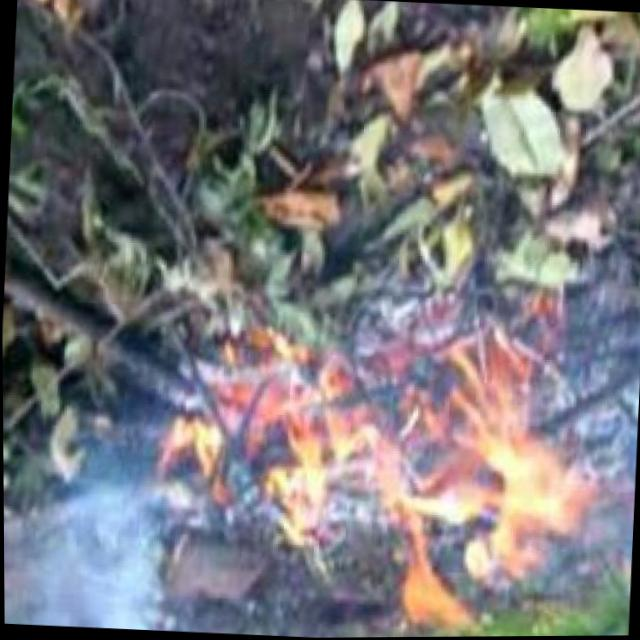Fire: (206, 332, 606, 637)
